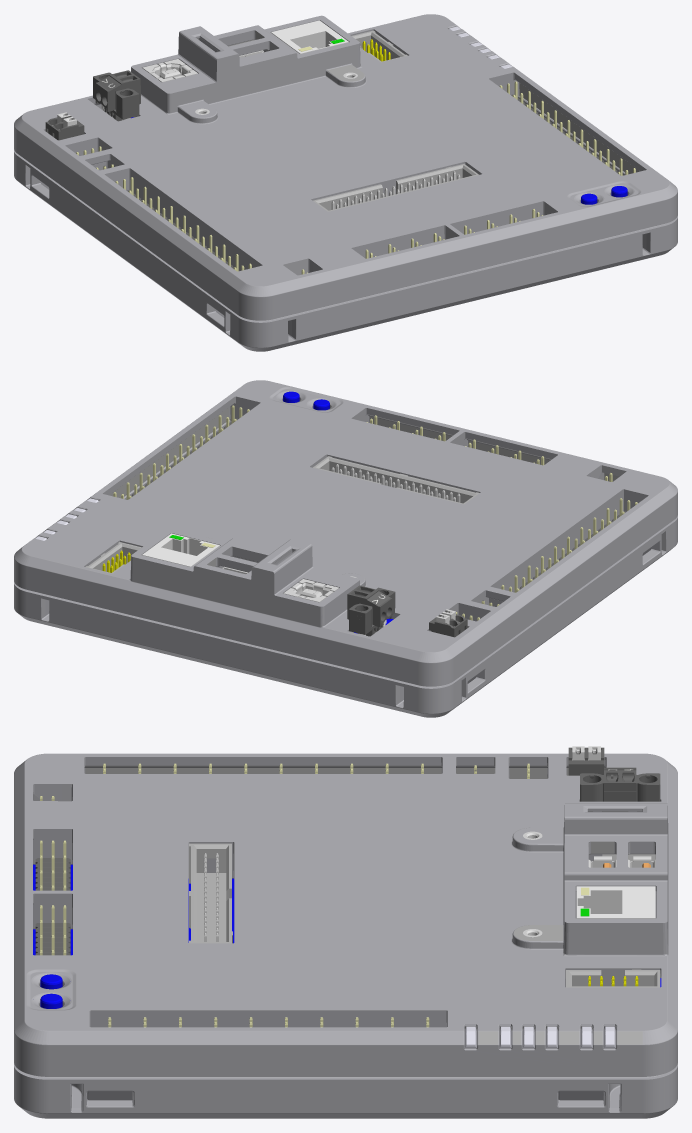
File: model_web.glb
3 renders of one model, top to bottom at view 1: azimuth 30°, elevation 25°; view 2: azimuth 150°, elevation 25°; view 3: azimuth 270°, elevation 25°, orthographic. The views are drawn at different scales.
Visible parts, largest first — view 1: Node1, Node4, Node2, Node8, Node3, Node6, Node19, Node7, Node11, Node10, Node17, Node5 (+4 smaller); view 2: Node1, Node8, Node2, Node4, Node3, Node6, Node19, Node17, Node7, Node11, Node10, Node12 (+6 smaller); view 3: Node1, Node6, Node2, Node8, Node3, Node4, Node17, Node19, Node11, Node12, Node10, Node7 (+7 smaller).
Boxes of the visible parts, x1=… form: Node1: x1=14, y1=14, x2=677, y2=351; Node4: x1=14, y1=15, x2=677, y2=345; Node2: x1=18, y1=14, x2=666, y2=347; Node8: x1=14, y1=17, x2=670, y2=347; Node3: x1=18, y1=20, x2=664, y2=350; Node6: x1=14, y1=18, x2=664, y2=340; Node19: x1=313, y1=30, x2=478, y2=211; Node7: x1=76, y1=46, x2=635, y2=274; Node11: x1=17, y1=25, x2=677, y2=341; Node10: x1=45, y1=72, x2=623, y2=267; Node17: x1=197, y1=31, x2=640, y2=174; Node5: x1=108, y1=31, x2=459, y2=209; Node1: x1=14, y1=380, x2=677, y2=717; Node8: x1=14, y1=380, x2=677, y2=713; Node2: x1=21, y1=387, x2=674, y2=711; Node4: x1=27, y1=388, x2=651, y2=716; Node3: x1=14, y1=383, x2=673, y2=710; Node6: x1=14, y1=389, x2=677, y2=707; Node19: x1=85, y1=456, x2=479, y2=573; Node17: x1=109, y1=407, x2=618, y2=566; Node7: x1=113, y1=405, x2=637, y2=620; Node11: x1=14, y1=403, x2=674, y2=703; Node10: x1=131, y1=418, x2=619, y2=637; Node12: x1=125, y1=427, x2=626, y2=636; Node1: x1=14, y1=753, x2=677, y2=1118; Node6: x1=14, y1=760, x2=677, y2=1113; Node2: x1=26, y1=757, x2=668, y2=1113; Node8: x1=14, y1=757, x2=677, y2=1112; Node3: x1=14, y1=764, x2=677, y2=1118; Node4: x1=14, y1=753, x2=677, y2=1113; Node17: x1=85, y1=766, x2=642, y2=1044; Node19: x1=189, y1=843, x2=660, y2=987; Node11: x1=14, y1=753, x2=677, y2=1118; Node12: x1=35, y1=748, x2=660, y2=953; Node10: x1=35, y1=748, x2=660, y2=953; Node7: x1=40, y1=763, x2=589, y2=1027.
Bounding box in the file's own units: 146 × 34.71 × 143.
